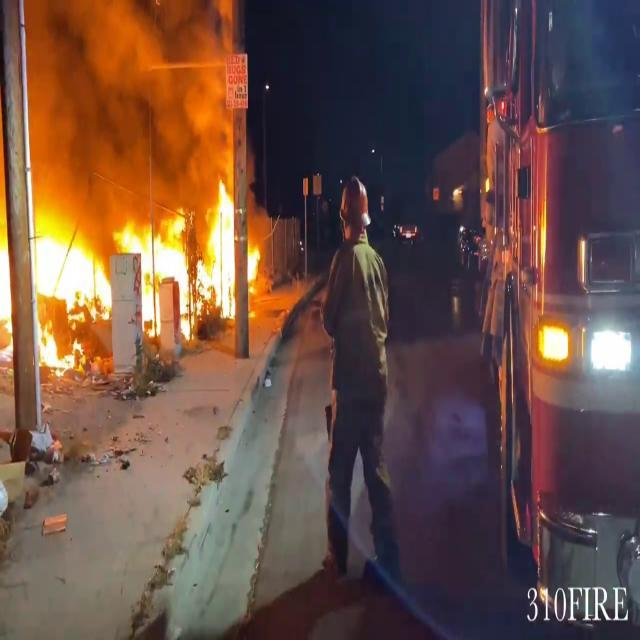Fire: (27, 172, 242, 354), (246, 232, 262, 292)
Smoke: (23, 2, 236, 204)
